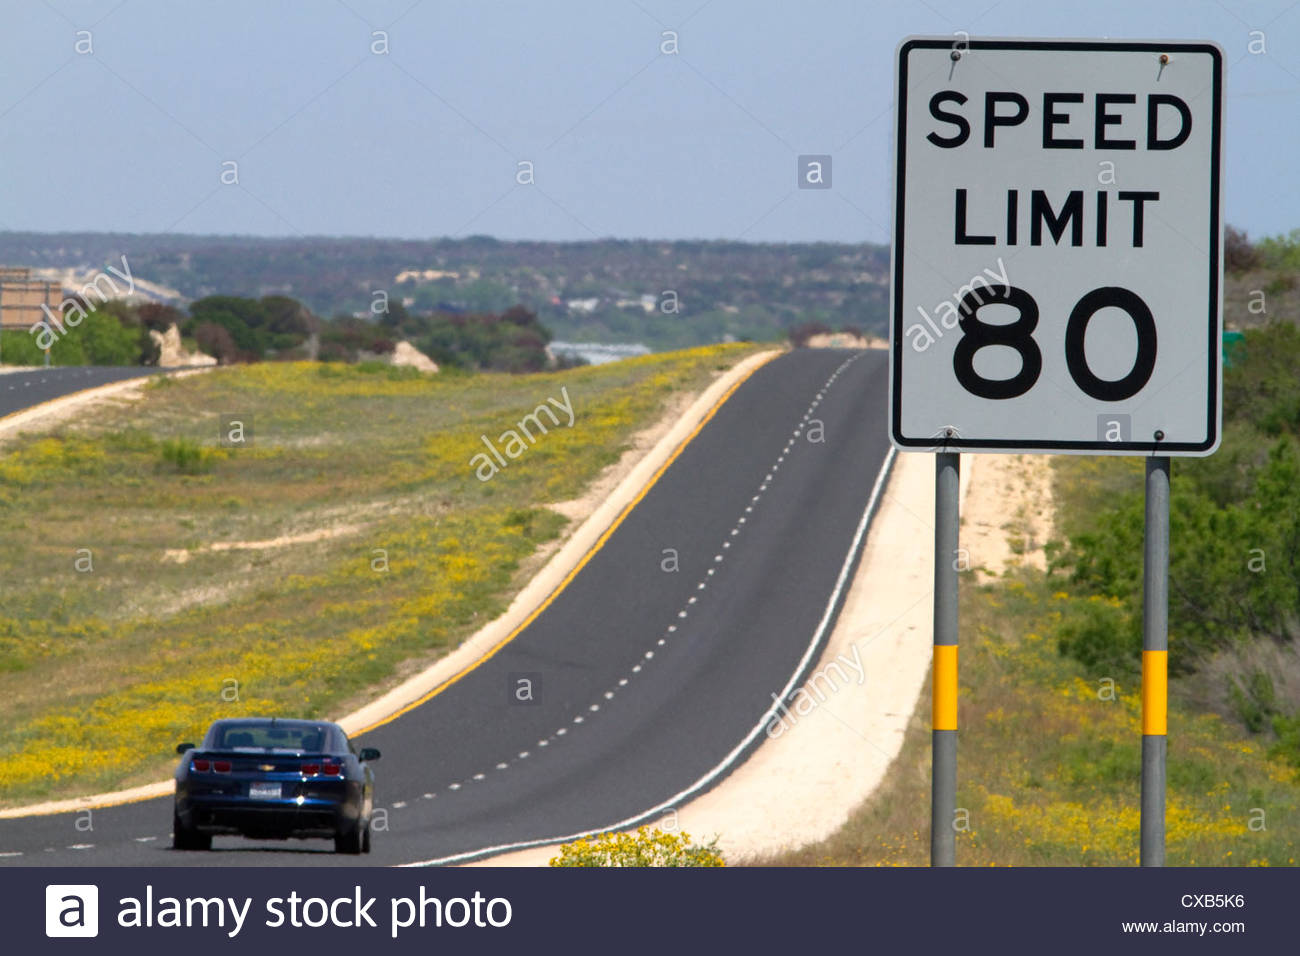speed limit: (884, 25, 1226, 481)
